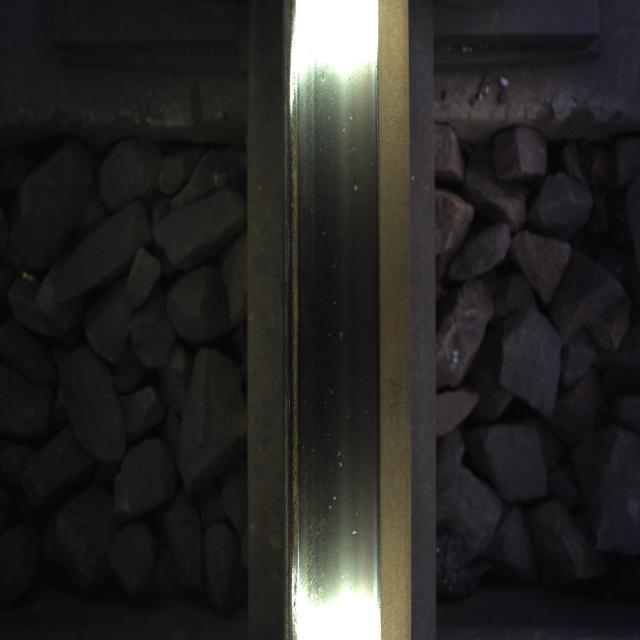normal: (293, 18, 367, 604)
